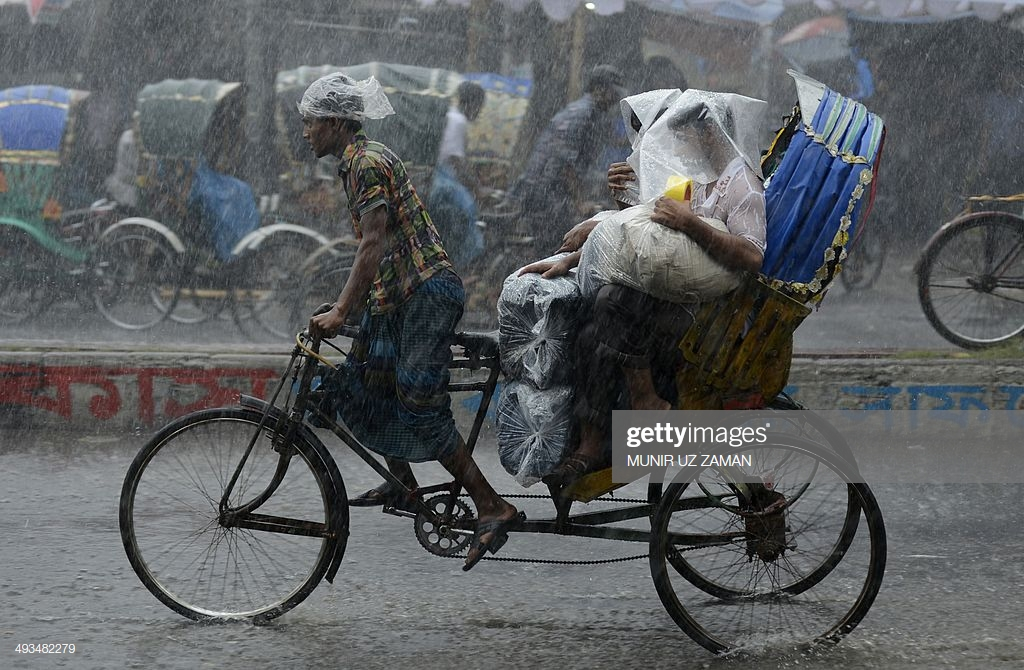Rickshaw: (185, 51, 862, 643), (2, 75, 182, 329), (141, 71, 274, 325)
